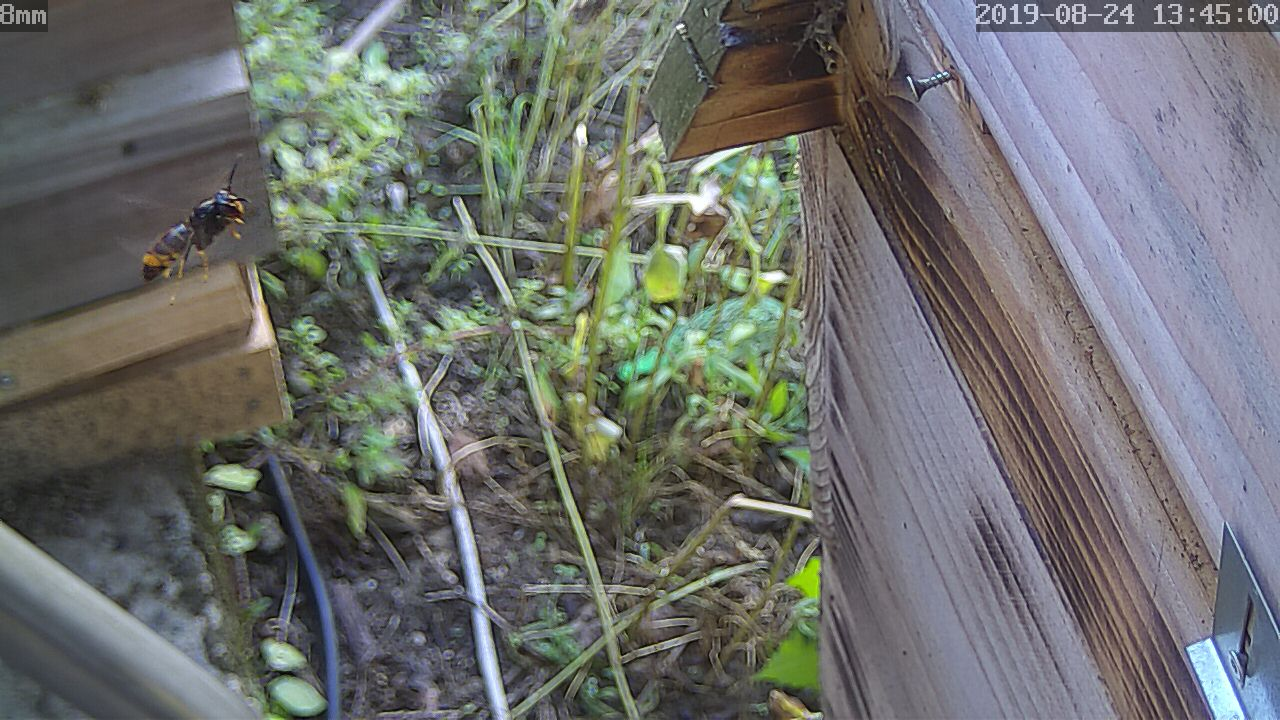hornet: (130, 0, 1231, 318), (134, 202, 243, 287)
